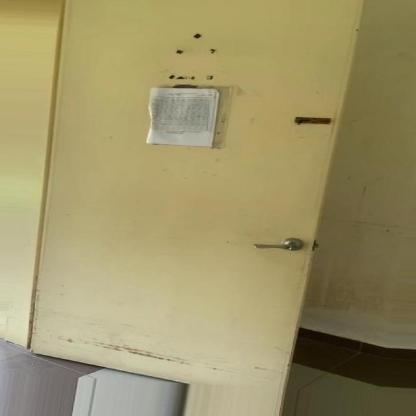door: (23, 0, 395, 416)
